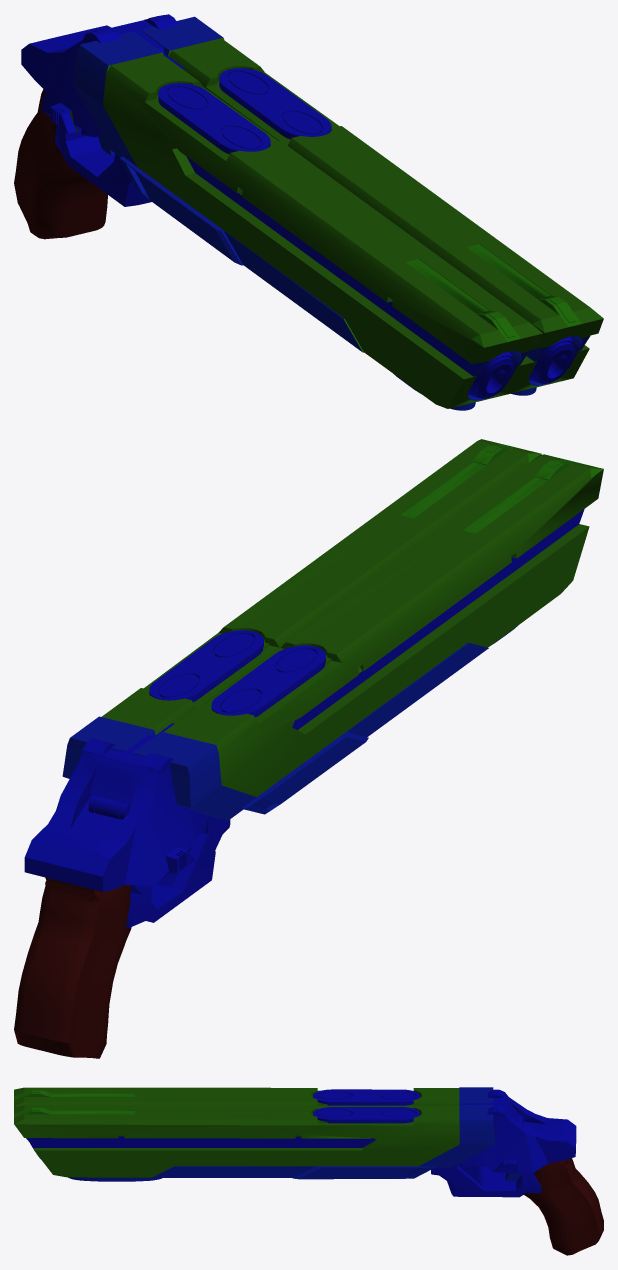
The model's file is f_Gun_01.fbx.
3 views of the same model, one above another, from view 1: azimuth 30°, elevation 25°; view 2: azimuth 150°, elevation 25°; view 3: azimuth 270°, elevation 25° (orthographic). The views are drawn at different scales.
Parts seen in each view (by area): view 1: f_pistol_low_01.002; view 2: f_pistol_low_01.002; view 3: f_pistol_low_01.002.
Boxes of the visible parts, x1,y1,x2,y2 form: f_pistol_low_01.002: [14, 14, 603, 410]; f_pistol_low_01.002: [14, 439, 603, 1058]; f_pistol_low_01.002: [14, 1087, 603, 1255].
Size of the model in its own units: 71.73 by 127 by 456.
